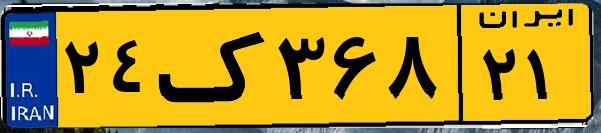1: (525, 38, 570, 115)
2: (57, 26, 110, 100), (475, 38, 525, 113)
3: (270, 28, 330, 110)
4: (110, 28, 158, 98)
6: (330, 28, 385, 110)
8: (385, 28, 445, 110)
ک: (158, 12, 270, 120)
